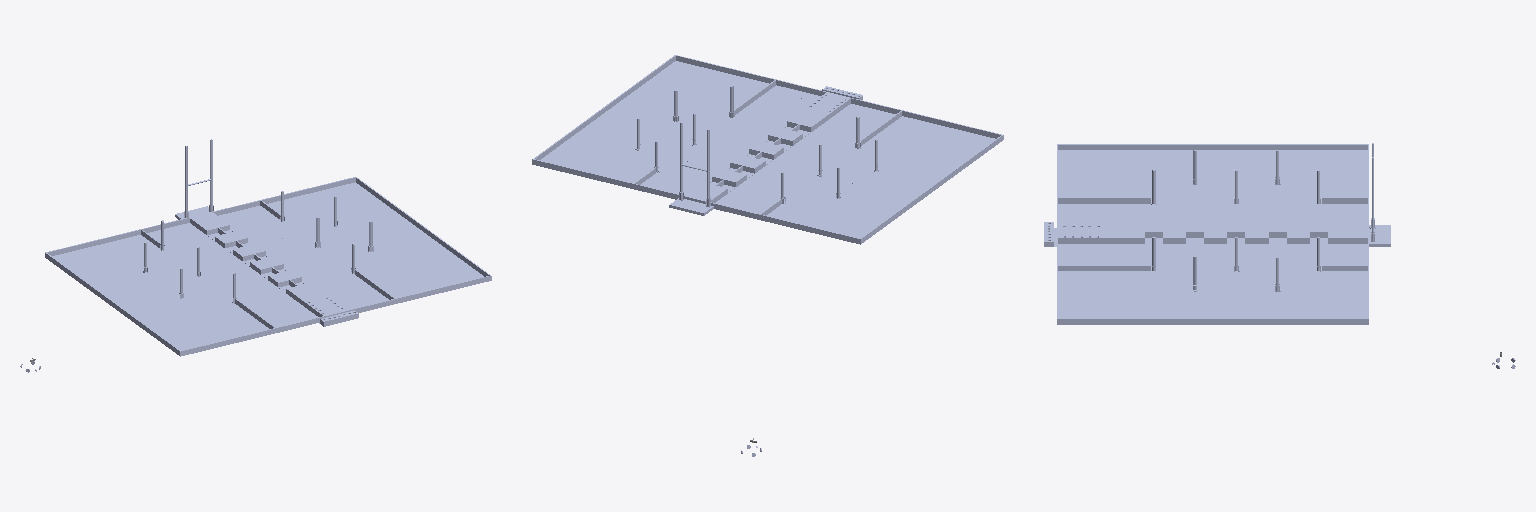
The robot description file, URDF, robot "bot1_description_dev":
<?xml version="1.0" encoding="utf-8"?>
<!-- This URDF was automatically created by SolidWorks to URDF Exporter! Originally created by [author] ([email redacted]) 
     Commit Version: 1.5.1-0-g916b5db  Build Version: 1.5.7152.31018
     For more information, please see http://wiki.ros.org/sw_urdf_exporter -->
<robot
  name="bot1_description_dev">

  <link name="base_footprint"/>

  <joint name="base_joint" type="fixed">
    <parent link="base_footprint"/>
    <child link="base_link"/>
    <origin xyz="0.0 0.0 0.0" rpy="0 0 0"/>
  </joint>

  <link
    name="base_link">
    <inertial>
      <origin
        xyz="0.479461327485212 -0.543947150207076 0.620906247806161"
        rpy="0 0 0" />
      <mass
        value="15.9642902147073" />
      <inertia
        ixx="0.073174101675937"
        ixy="4.94547099377315E-05"
        ixz="-2.57031561174446E-05"
        iyy="0.102360066046361"
        iyz="0.000717471391694564"
        izz="0.16240463229841" />
    </inertial>

    <visual>
      <origin
        xyz="0 0 0"
        rpy="0 0 0" />
      <geometry>
        <mesh
          filename="package://bot1_description_dev/meshes/base_link.STL" />
      </geometry>
      <material
        name="">
        <color
          rgba="0.792156862745098 0.819607843137255 0.933333333333333 1" />
      </material>
    </visual>

    <collision>
      <origin
        xyz="0 0 0"
        rpy="0 0 0" />
      <geometry>
        <mesh
          filename="package://bot1_description_dev/meshes/base_link.STL" />
      </geometry>
    </collision>
  </link>

  <joint
    name="wheel_fl_joint"
    type="fixed">
    <origin
      xyz="0.739955370324104 -0.794219638710453 0.430010253244007"
      rpy="-1.5707963267949 -0.374361018706124 0.785398163397448" />
    <parent
      link="base_link" />
    <child
      link="wheel_fl_link" />
    <axis
      xyz="0 0 0" />
  </joint>

  <link
    name="wheel_fl_link">
    <inertial>
      <origin
        xyz="-2.22044604925031E-16 -1.66533453693773E-16 0.0193695052101011"
        rpy="0 0 0" />
      <mass
        value="0.688491418307573" />
      <inertia
        ixx="0.00106926437465913"
        ixy="-2.71050543121376E-20"
        ixz="-4.39101879856629E-18"
        iyy="0.00106926437465913"
        iyz="-1.78893358460108E-18"
        izz="0.00196525349307539" />
    </inertial>

    <visual>
      <origin
        xyz="0 0 0"
        rpy="0 0 0" />
      <geometry>
        <mesh
          filename="package://bot1_description_dev/meshes/wheel_fl_link.STL" />
      </geometry>
      <material
        name="">
        <color
          rgba="0.792156862745098 0.819607843137255 0.933333333333333 1" />
      </material>
    </visual>

    <collision>
      <origin
        xyz="0 0 0"
        rpy="0 0 0" />
      <geometry>
        <mesh
          filename="package://bot1_description_dev/meshes/wheel_fl_link.STL" />
      </geometry>
    </collision>
  </link>

  <joint
    name="wheel_fr_joint"
    type="fixed">
    <origin
      xyz="0.213906740303084 -0.794219638710449 0.430010253244008"
      rpy="-1.5707963267949 -0.374361018706124 -0.785398163397452" />
    <parent
      link="base_link" />
    <child
      link="wheel_fr_link" />
    <axis
      xyz="0 0 0" />
  </joint>

  <link
    name="wheel_fr_link">
    <inertial>
      <origin
        xyz="1.11022302462516E-16 0 0.0193695052101009"
        rpy="0 0 0" />
      <mass
        value="0.688491418307572" />
      <inertia
        ixx="0.00106926437465913"
        ixy="9.48676900924816E-20"
        ixz="1.30104260698261E-18"
        iyy="0.00106926437465913"
        iyz="1.77538105744501E-18"
        izz="0.00196525349307539" />
    </inertial>

    <visual>
      <origin
        xyz="0 0 0"
        rpy="0 0 0" />
      <geometry>
        <mesh
          filename="package://bot1_description_dev/meshes/wheel_fr_link.STL" />
      </geometry>
      <material
        name="">
        <color
          rgba="0.792156862745098 0.819607843137255 0.933333333333333 1" />
      </material>
    </visual>

    <collision>
      <origin
        xyz="0 0 0"
        rpy="0 0 0" />
      <geometry>
        <mesh
          filename="package://bot1_description_dev/meshes/wheel_fr_link.STL" />
      </geometry>
    </collision>
  </link>

  <joint
    name="whee_bl_joint"
    type="fixed">
    <origin
      xyz="0.739955370324109 -0.268171008689419 0.430010253244007"
      rpy="-1.5707963267949 -0.374361018706128 2.35619449019234" />
    <parent
      link="base_link" />
    <child
      link="wheel_bl_link" />
    <axis
      xyz="0 0 0" />
  </joint>

  <link
    name="wheel_bl_link">
    <inertial>
      <origin
        xyz="2.22044604925031E-16 -1.11022302462516E-16 0.0193695052101009"
        rpy="0 0 0" />
      <mass
        value="0.688491418307573" />
      <inertia
        ixx="0.00106926437465913"
        ixy="-2.71050543121376E-20"
        ixz="4.33680868994202E-18"
        iyy="0.00106926437465913"
        iyz="-1.65340831304039E-18"
        izz="0.00196525349307539" />
    </inertial>

    <visual>
      <origin
        xyz="0 0 0"
        rpy="0 0 0" />
      <geometry>
        <mesh
          filename="package://bot1_description_dev/meshes/wheel_bl_link.STL" />
      </geometry>
      <material
        name="">
        <color
          rgba="0.792156862745098 0.819607843137255 0.933333333333333 1" />
      </material>
    </visual>

    <collision>
      <origin
        xyz="0 0 0"
        rpy="0 0 0" />
      <geometry>
        <mesh
          filename="package://bot1_description_dev/meshes/wheel_bl_link.STL" />
      </geometry>
    </collision>
  </link>

  <joint
    name="wheel_br_joint"
    type="fixed">
    <origin
      xyz="0.213906740303079 -0.268171008689424 0.430010253244007"
      rpy="-1.57079632679489 -0.374361018706128 -2.35619449019234" />
    <parent
      link="base_link" />
    <child
      link="wheel_br_link" />
    <axis
      xyz="0 0 0" />
  </joint>

  <link
    name="wheel_br_link">
    <inertial>
      <origin
        xyz="5.55111512312578E-17 -5.55111512312578E-17 0.0193695052101009"
        rpy="0 0 0" />
      <mass
        value="0.688491418307572" />
      <inertia
        ixx="0.00106926437465913"
        ixy="2.71050543121376E-20"
        ixz="-1.0842021724855E-18"
        iyy="0.00106926437465913"
        iyz="1.65340831304039E-18"
        izz="0.00196525349307539" />
    </inertial>

    <visual>
      <origin
        xyz="0 0 0"
        rpy="0 0 0" />
      <geometry>
        <mesh
          filename="package://bot1_description_dev/meshes/wheel_br_link.STL" />
      </geometry>
      <material
        name="">
        <color
          rgba="0.792156862745098 0.819607843137255 0.933333333333333 1" />
      </material>
    </visual>

    <collision>
      <origin
        xyz="0 0 0"
        rpy="0 0 0" />
      <geometry>
        <mesh
          filename="package://bot1_description_dev/meshes/wheel_br_link.STL" />
      </geometry>
    </collision>
  </link>

  <joint
    name="kinect_joint"
    type="fixed">
    <origin
      xyz="0.47693234400763 -0.703241129330077 0.744511564271028"
      rpy="1.50898907863485 0 0" />
    <parent
      link="base_link" />
    <child
      link="kinect_link" />
    <axis
      xyz="0 0 0" />
  </joint>

  <link
    name="kinect_link">
    <inertial>
      <origin
        xyz="4.52828136114358E-05 -0.00661626159354156 -0.0295600362488005"
        rpy="0 0 0" />
      <mass
        value="0.658662539657532" />
      <inertia
        ixx="0.000269654820212151"
        ixy="1.4248528631335E-08"
        ixz="-9.36544206214007E-07"
        iyy="0.0031115941107358"
        iyz="2.03321346620874E-06"
        izz="0.00298617268204176" />
    </inertial>

    <visual>
      <origin
        xyz="0 0 0"
        rpy="0 0 0" />
      <geometry>
        <mesh
          filename="package://bot1_description_dev/meshes/kinect_link.STL" />
      </geometry>
      <material
        name="">
        <color
          rgba="0.494117647058824 0.494117647058824 0.494117647058824 1" />
      </material>
    </visual>

    <collision>
      <origin
        xyz="0 0 0"
        rpy="0 0 0" />
      <geometry>
        <mesh
          filename="package://bot1_description_dev/meshes/kinect_link.STL" />
      </geometry>
    </collision>
  </link>

  <joint
    name="camera_joint"
    type="fixed">
    <origin
      xyz="0.480360774189096 -0.685219620888692 0.812857605494797"
      rpy="-3.14159265358979 0 3.14159265358979" />
    <parent
      link="base_link" />
    <child
      link="camera_link" />
    <axis
      xyz="0 0 0" />
  </joint>

  <link
    name="camera_link">
    <inertial>
      <origin
        xyz="0.00343288650659695 0.00161390844718778 -0.0158138637102407"
        rpy="0 0 0" />
      <mass
        value="0.0441644560542025" />
      <inertia
        ixx="1.69621154429987E-05"
        ixy="2.79192684069655E-09"
        ixz="1.0202928708619E-09"
        iyy="1.1332044326331E-05"
        iyz="9.1057140651248E-07"
        izz="1.11443700575368E-05" />
    </inertial>

    <visual>
      <origin
        xyz="0 0 0"
        rpy="0 0 0" />
      <geometry>
        <mesh
          filename="package://bot1_description_dev/meshes/camera_link.STL" />
      </geometry>
      <material
        name="">
        <color
          rgba="0.792156862745098 0.819607843137255 0.933333333333333 1" />
      </material>
    </visual>

    <collision>
      <origin
        xyz="0 0 0"
        rpy="0 0 0" />
      <geometry>
        <mesh
          filename="package://bot1_description_dev/meshes/camera_link.STL" />
      </geometry>
    </collision>
  </link>

  <joint
    name="scan_joint"
    type="fixed">
    <origin
      xyz="0.476931055313594 -0.935335323699936 0.424610253244008"
      rpy="-1.5707963267949 0 -1.5707963267949" />
    <parent
      link="base_link" />
    <child
      link="base_scan" />
    <axis
      xyz="0 0 0" />
  </joint>

  <link
    name="base_scan">
    <inertial>
      <origin
        xyz="-0.00748346988333637 -0.0106681277328403 -9.1926111087548E-05"
        rpy="0 0 0" />
      <mass
        value="1.33076913637071" />
      <inertia
        ixx="0.000614917940454091"
        ixy="-0.00015824302591117"
        ixz="-8.01984318974967E-07"
        iyy="0.00109815200027136"
        iyz="3.09162986587583E-06"
        izz="0.000960697335617222" />
    </inertial>

    <visual>
      <origin
        xyz="0 0 0"
        rpy="0 0 0" />
      <geometry>
        <mesh
          filename="package://bot1_description_dev/meshes/base_scan.STL" />
      </geometry>
      <material
        name="">
        <color
          rgba="0.792156862745098 0.819607843137255 0.933333333333333 1" />
      </material>
    </visual>

    <collision>
      <origin
        xyz="0 0 0"
        rpy="0 0 0" />
      <geometry>
        <mesh
          filename="package://bot1_description_dev/meshes/base_scan.STL" />
      </geometry>
    </collision>
  </link>
</robot>

--- What the picture shows (computed from the rendered views, not written in the file) ---
Views: 3 orthographic renders of the robot side by side, from view 1: azimuth 30°, elevation 25°; view 2: azimuth 150°, elevation 25°; view 3: azimuth 270°, elevation 25°.
Robot: bot1_description_dev — 9 links, 8 joints (8 fixed); root link base_footprint; default pose: all joints at 0.
Links seen in each view (by area): view 1: base_link; view 2: base_link; view 3: base_link.
Boxes of the visible links, left/top/right/bottom form: base_link: left=45, top=139, right=491, bottom=356; base_link: left=532, top=55, right=1003, bottom=244; base_link: left=1044, top=143, right=1390, bottom=324.
Size in the robot's own frame: 13.4 by 15.22 by 9.9 metres.
Meshes: 8 distinct files referenced, 8 mesh visuals loaded (8 binary STL).